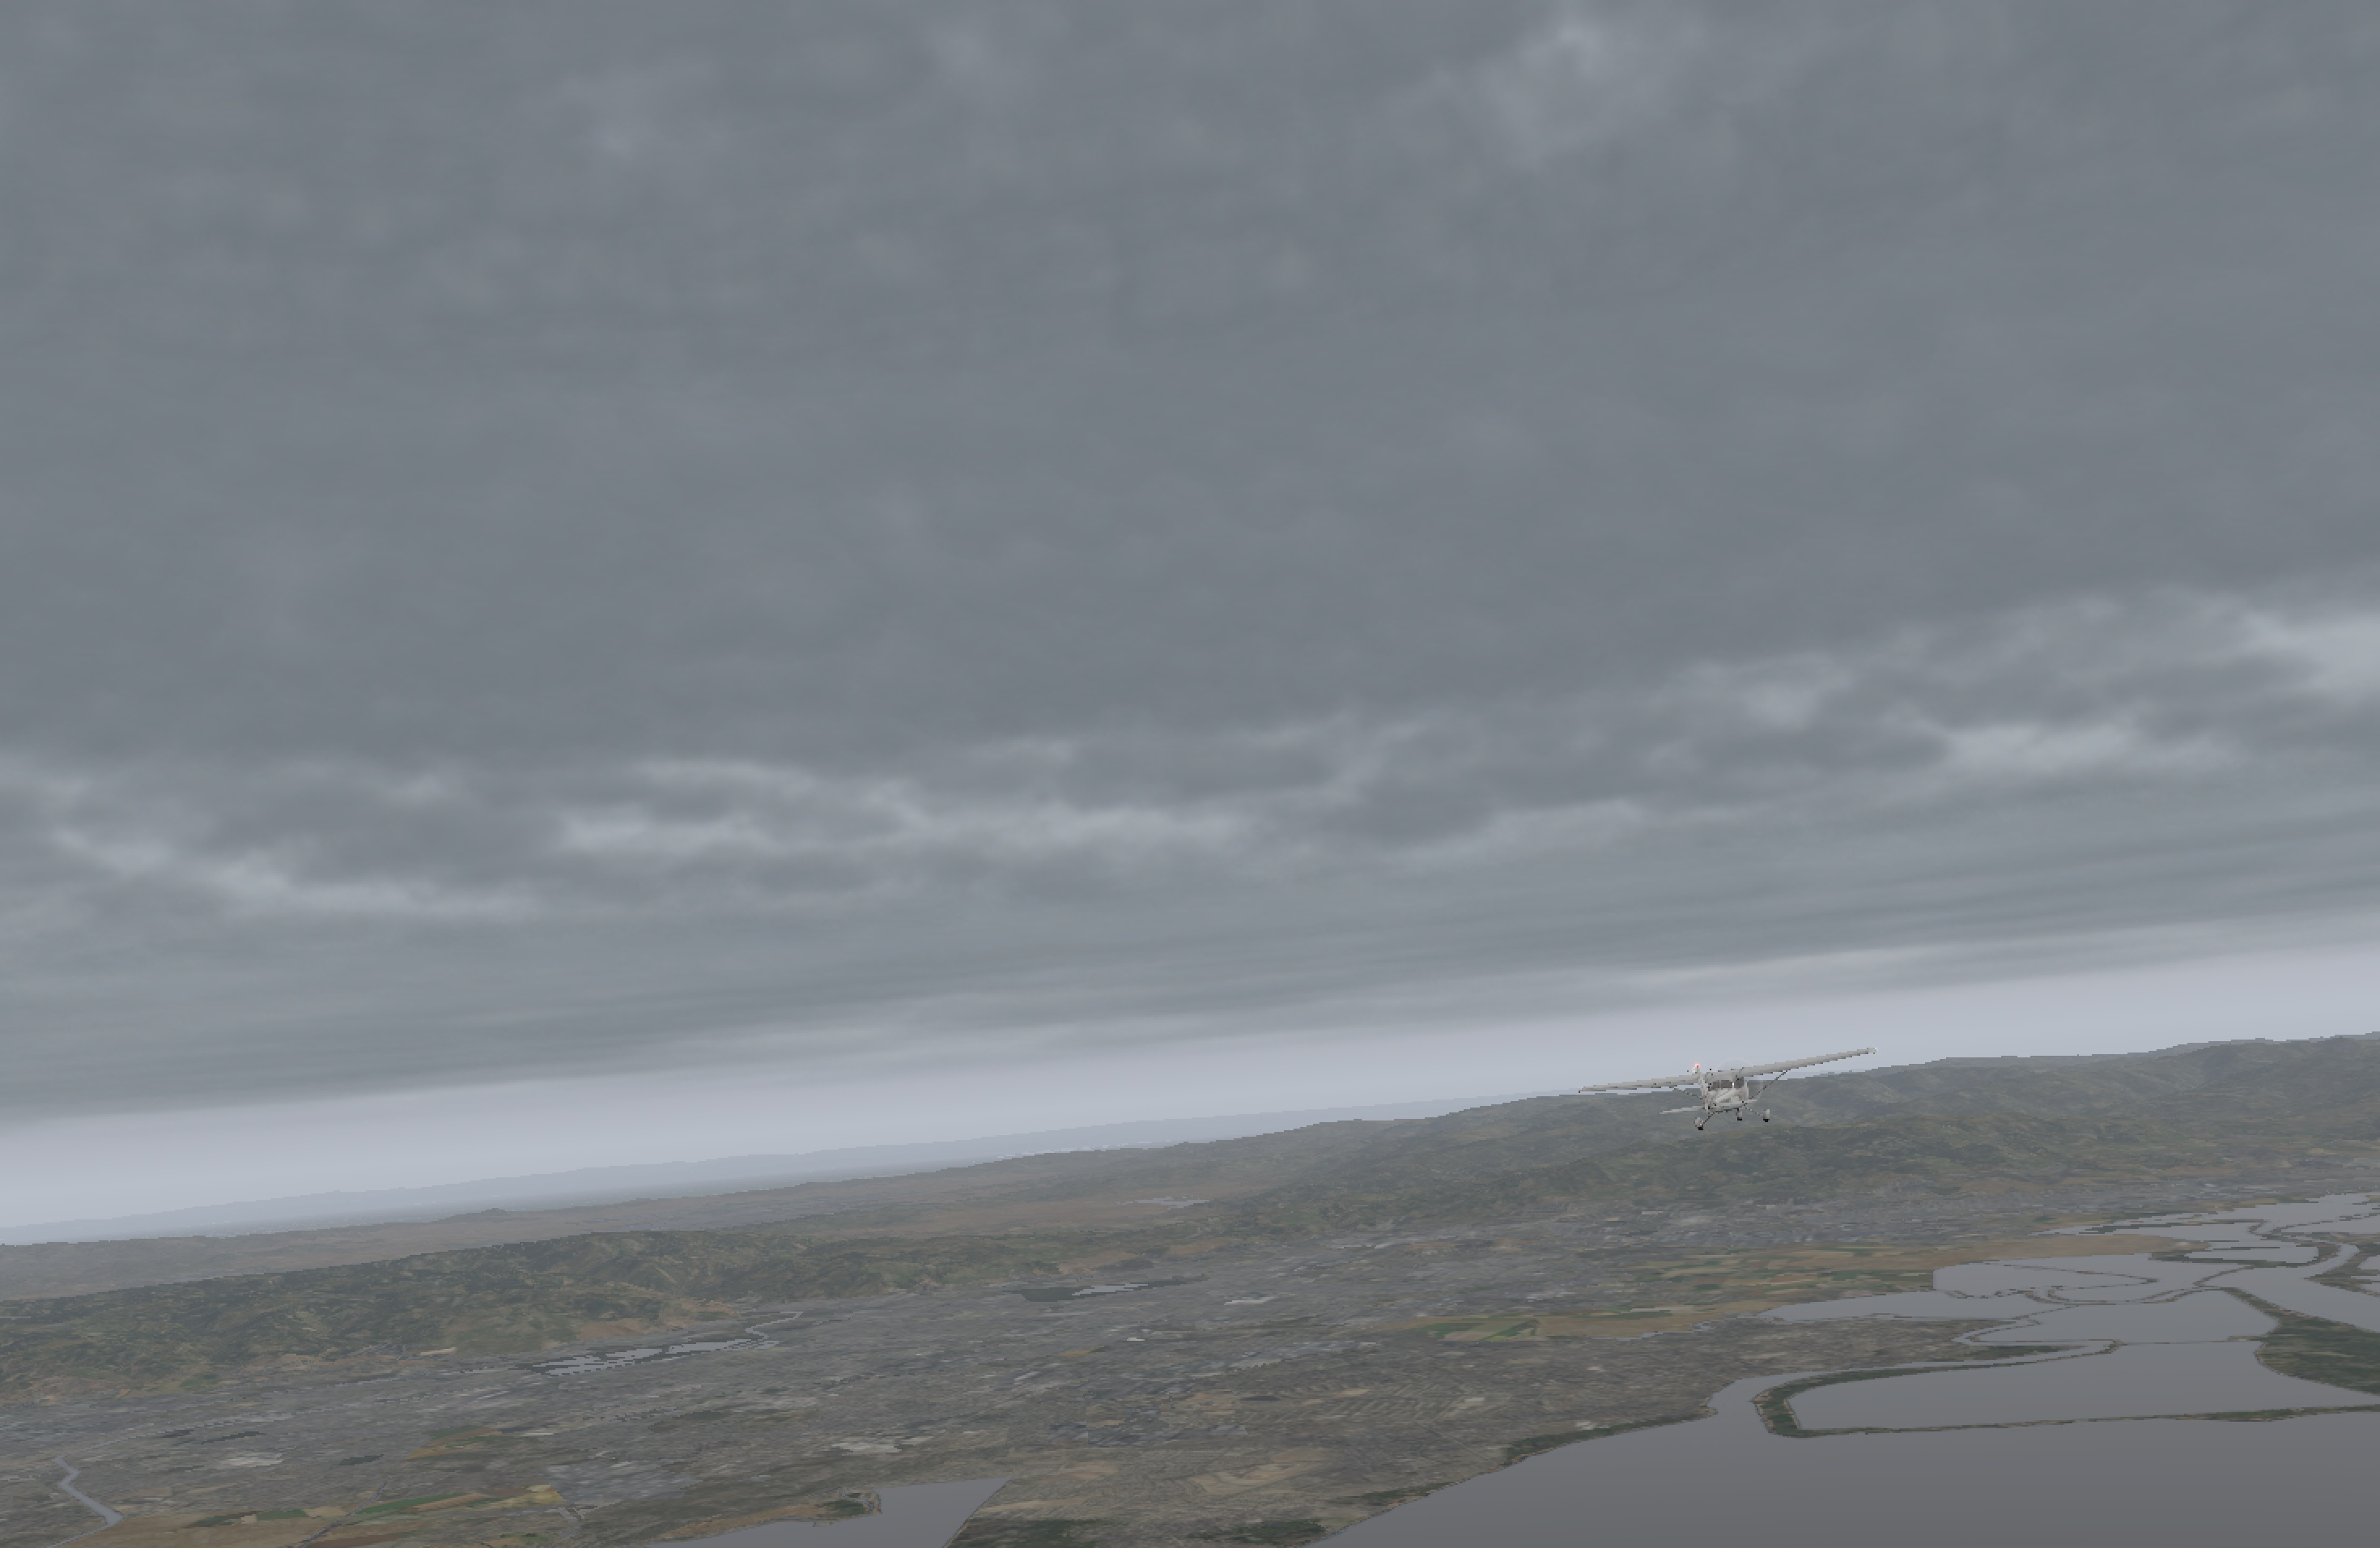aircraft: (1627, 1052, 1828, 1126)
